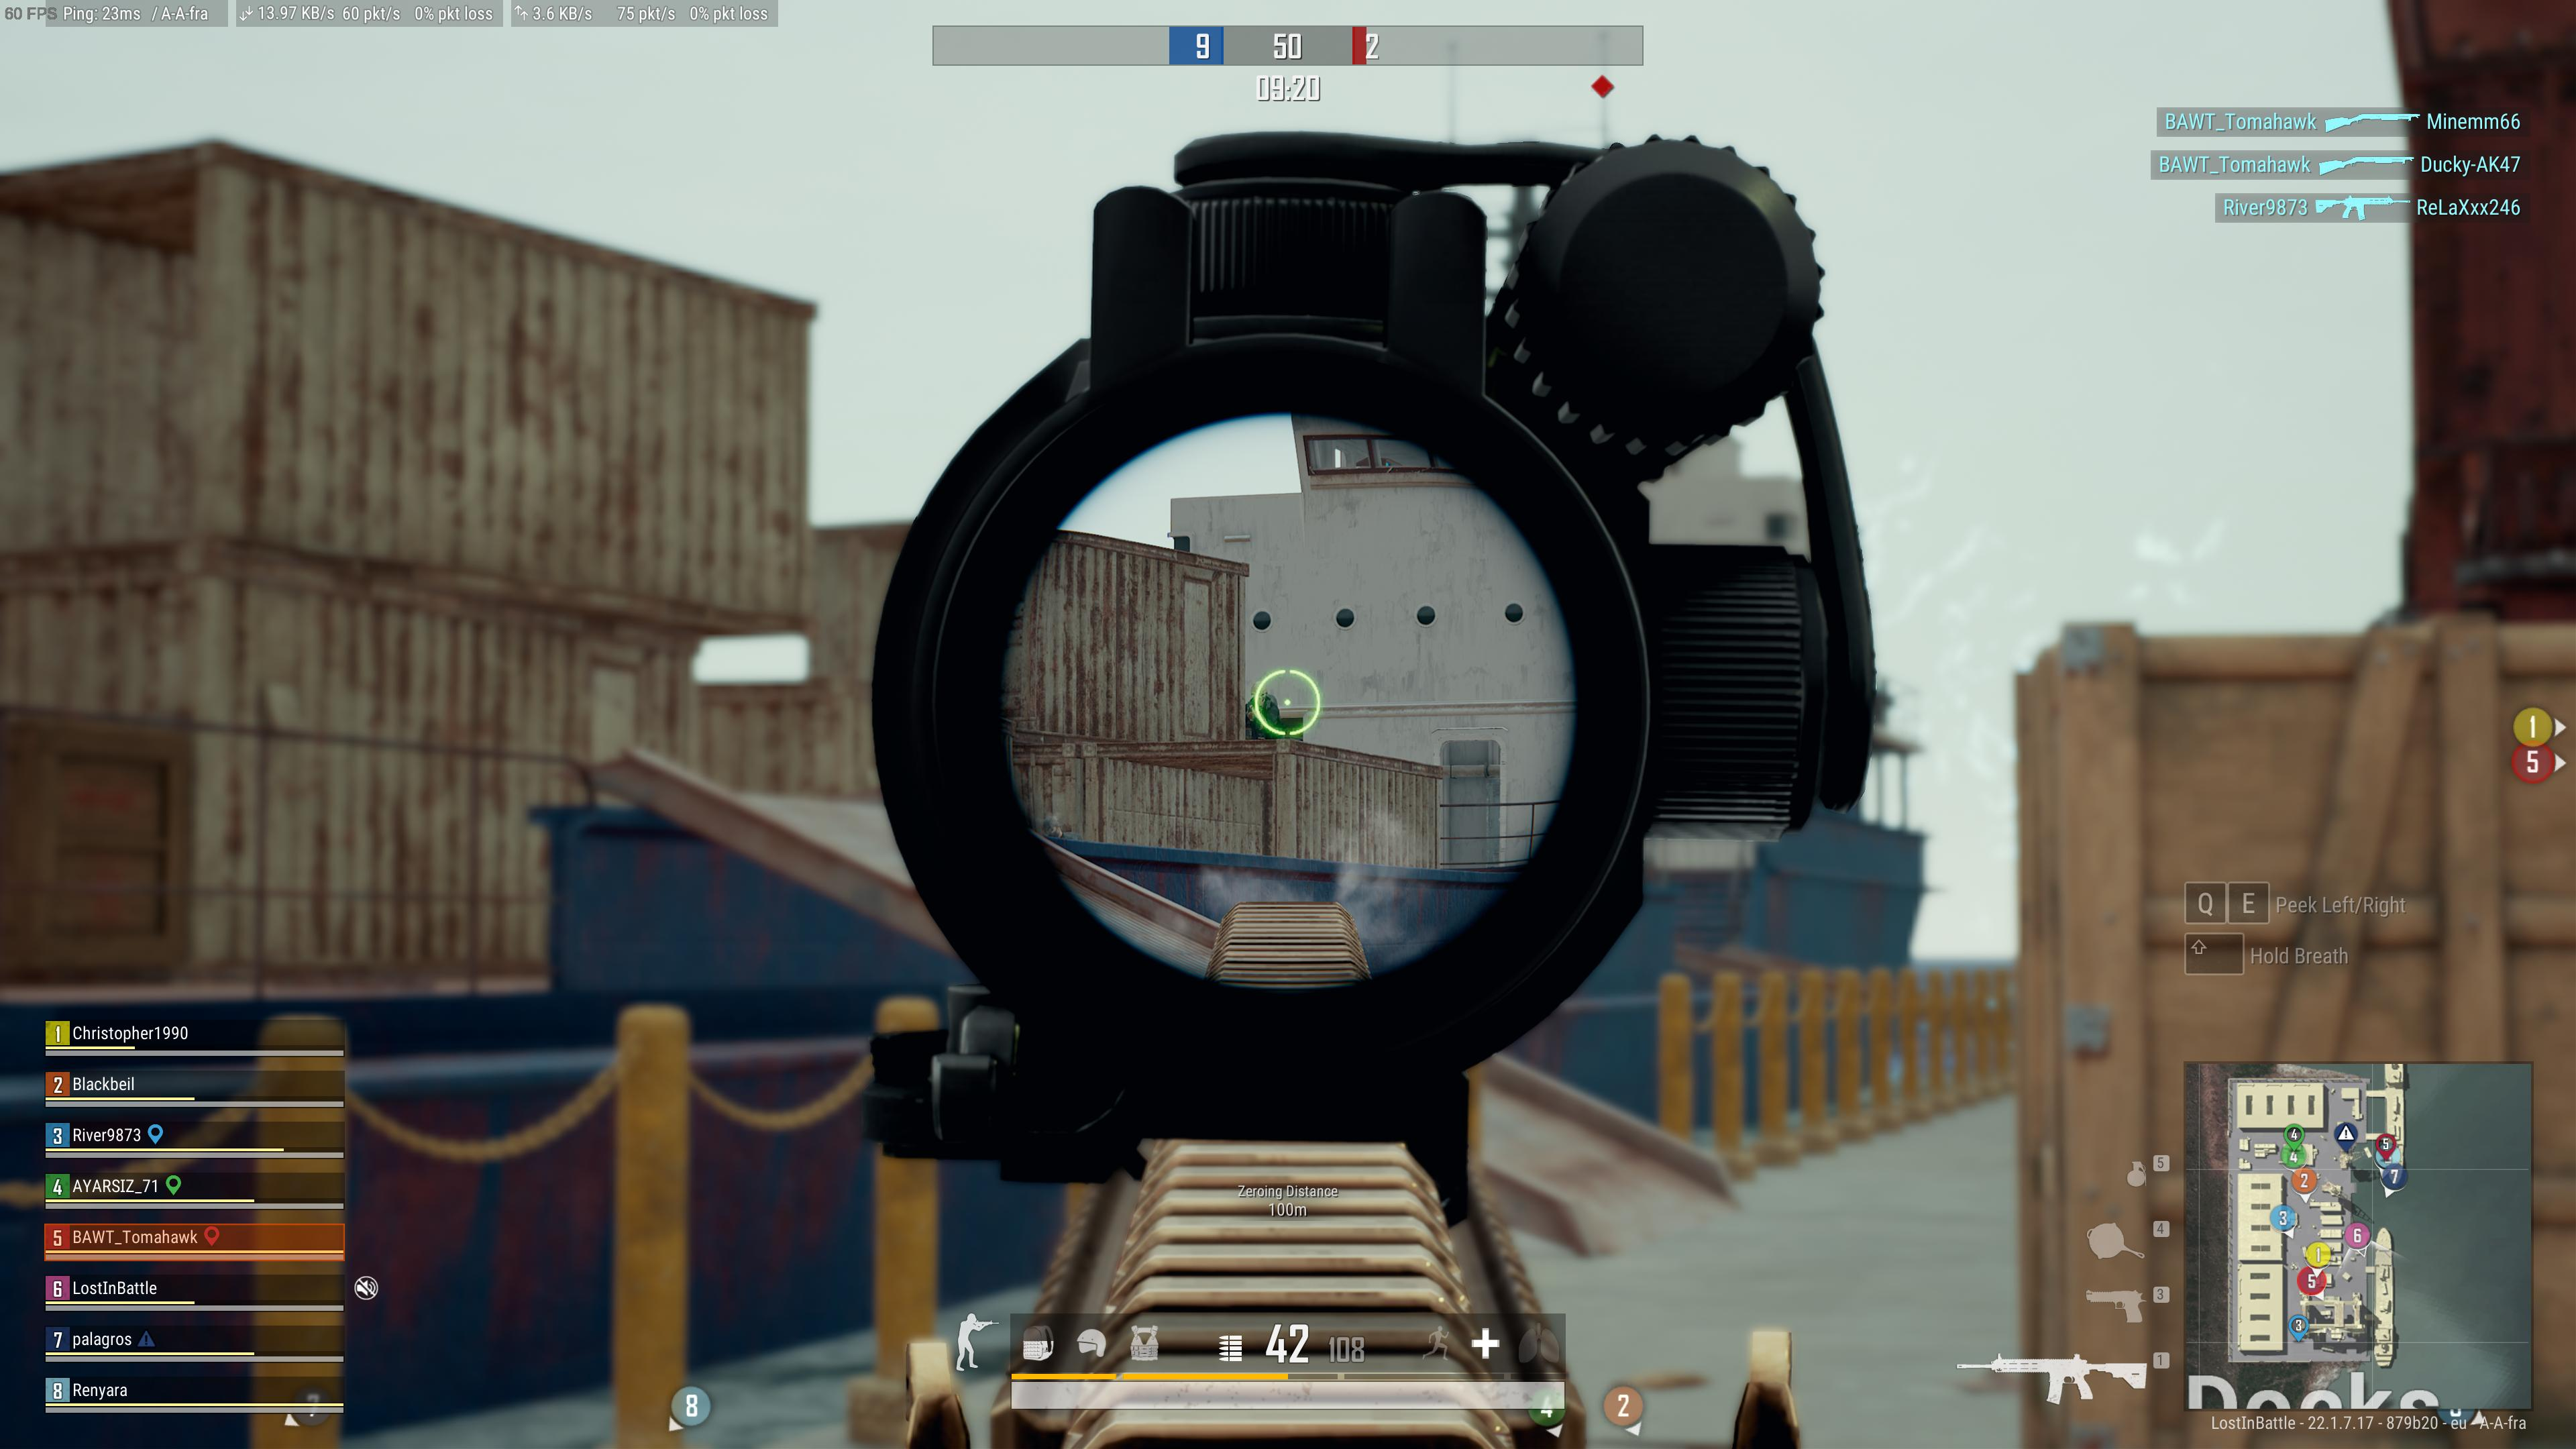enemy: (1246, 679, 1284, 738)
enemy_head: (1249, 679, 1269, 704)
